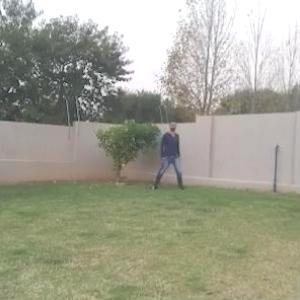follow: (162, 120, 178, 186)
